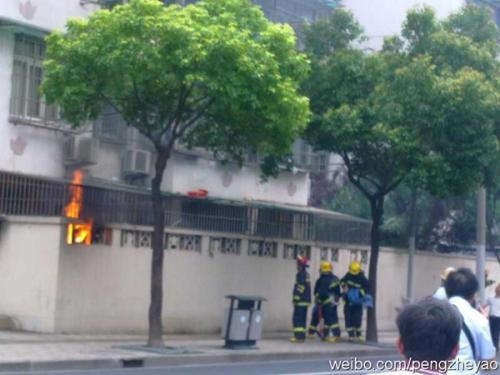fire: (64, 170, 93, 246)
